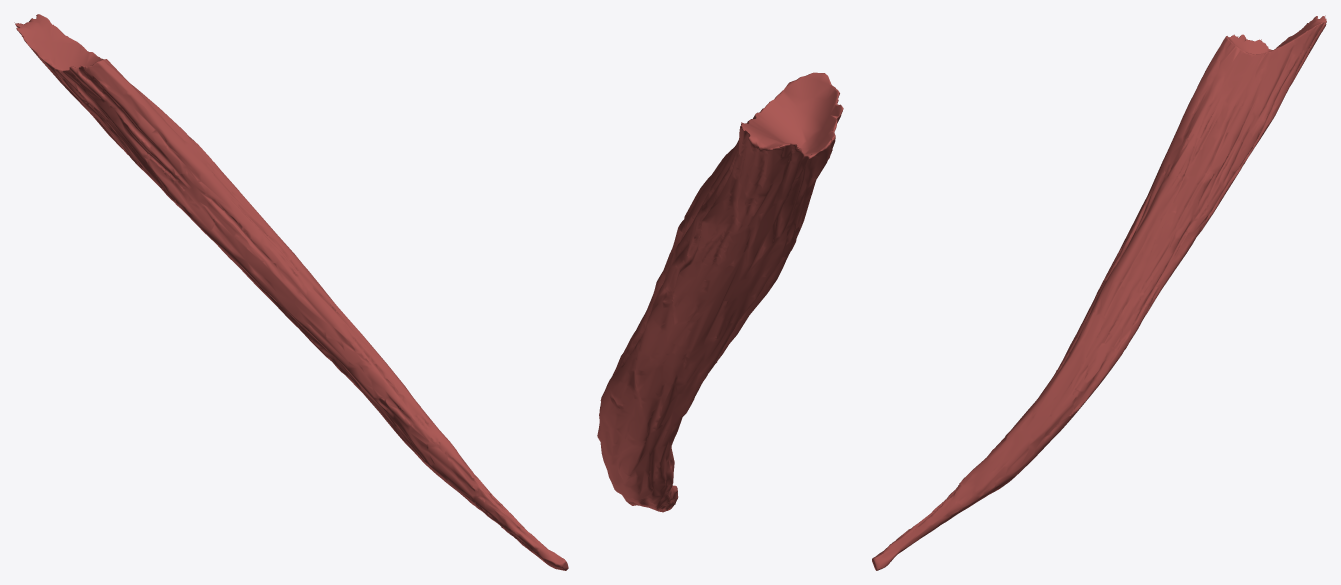
The model's file is FMA46306.glb.
3 renders of one model, left to right at view 1: azimuth 30°, elevation 25°; view 2: azimuth 150°, elevation 25°; view 3: azimuth 270°, elevation 25°, orthographic. The views are drawn at different scales.
Visible parts, largest first — view 1: FMA46306; view 2: FMA46306; view 3: FMA46306.
Boxes of the visible parts, <box> form: FMA46306: <box>14,14,568,570</box>; FMA46306: <box>597,72,843,512</box>; FMA46306: <box>872,15,1326,570</box>.
Size of the model in its own units: 0.0455 by 0.062 by 0.0611.
